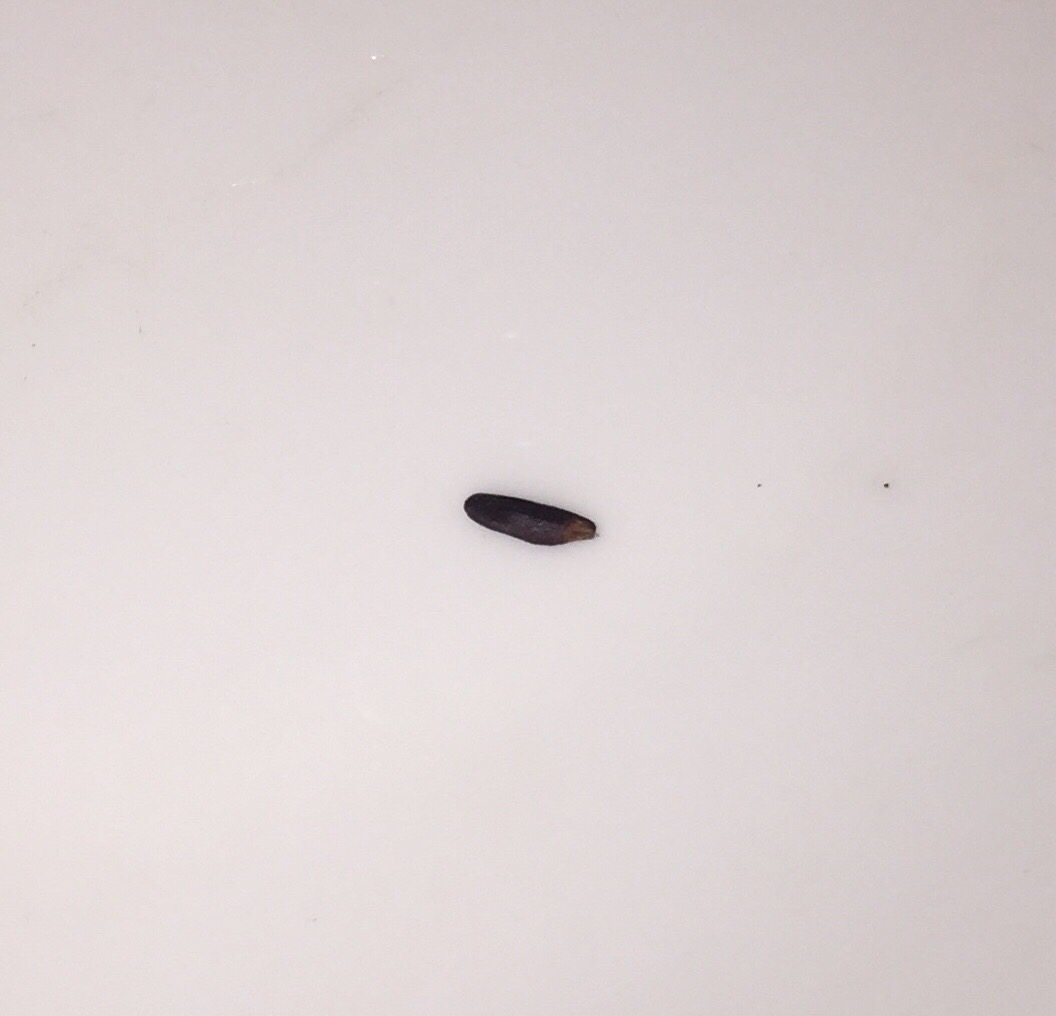Gao Nep Cam: (450, 471, 612, 563)
